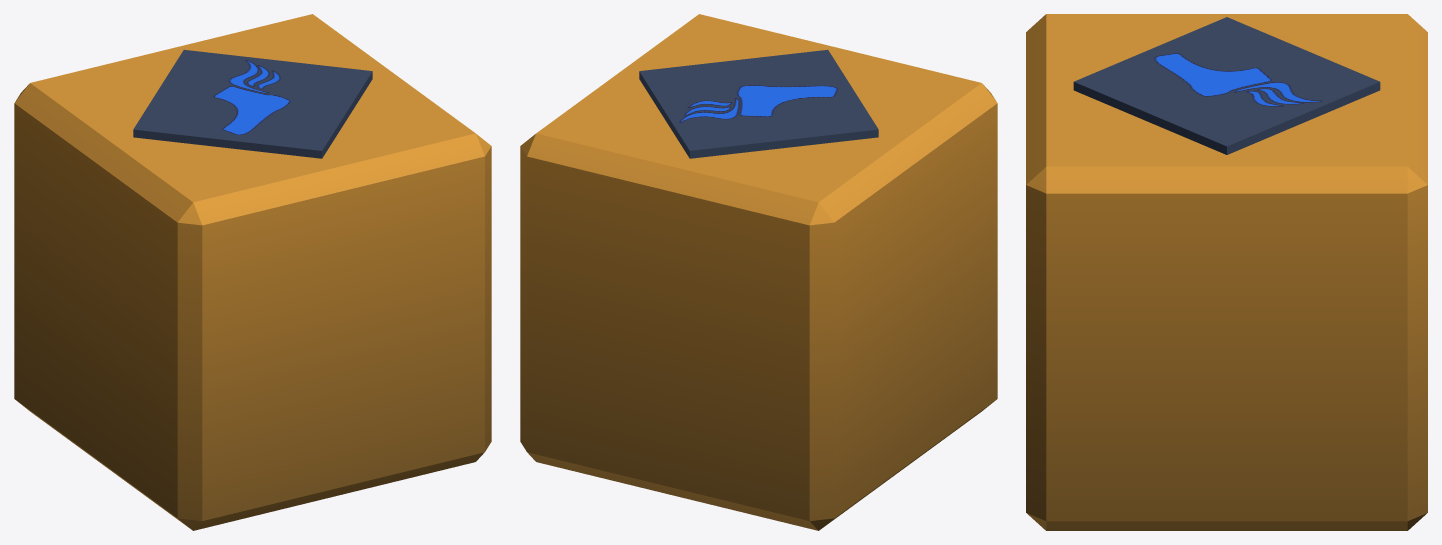
File: Tile_Card_Movement_Gold.fbx
3 views of the same model, side by side, from view 1: azimuth 30°, elevation 25°; view 2: azimuth 150°, elevation 25°; view 3: azimuth 270°, elevation 25° (orthographic). The views are drawn at different scales.
Visible parts, largest first — view 1: Tile Emas Plate Speed; view 2: Tile Emas Plate Speed; view 3: Tile Emas Plate Speed.
Boxes of the visible parts, x1=… form: Tile Emas Plate Speed: x1=14, y1=14, x2=491, y2=530; Tile Emas Plate Speed: x1=520, y1=14, x2=997, y2=530; Tile Emas Plate Speed: x1=1026, y1=14, x2=1427, y2=530.
Size of the model in its own units: 1 by 1.02 by 1.
Materials: 1 (1 with a texture image).
